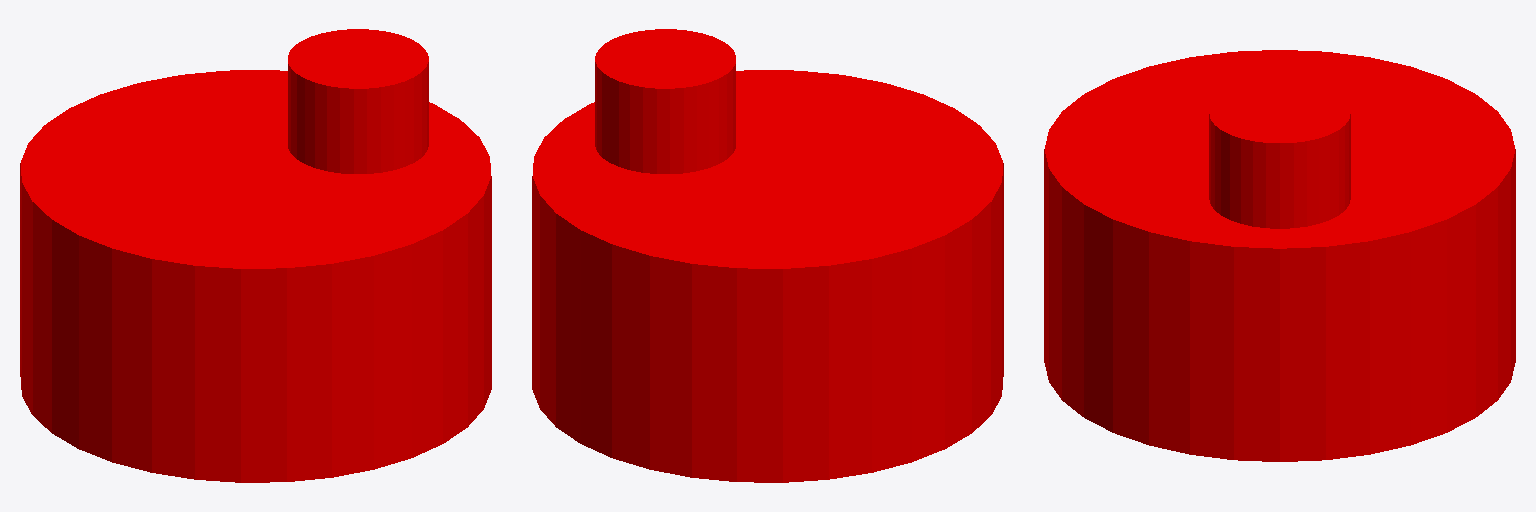
URDF robot description (my_robo):
<?xml version="1.0"?>
<robot name="my_robo" xmlns:xacro="http://ros.org/wiki/xacro">
  <material name="red">
    <color rgba="1.0 0 0 2.5"/>
  </material>

  <link name="base_link"/>

  <joint name="body_joint" type="fixed">
    <parent link="base_link"/>
    <child  link="body_link"/>
    <origin xyz="0 0 0.05" rpy="0 0 0"/>
  </joint>
  <link name="body_link">
   <inertial>
     <origin xyz="0 0 0.5" rpy="0 0 0"/>
     <mass value="1"/>
     <inertia ixx="0.1"  ixy="0"  ixz="0" iyy="0.1" iyz="0" izz="0.1" />
   </inertial>
   <visual>
     <origin xyz="0 0 0" rpy="0 0 0" />
     <geometry>
       <cylinder radius="0.1" length="0.1"/>
     </geometry>
     <material name="red" />
   </visual>
   <collision>
     <origin xyz="0 0 0" rpy="0 0 0"/>
     <geometry>
       <cylinder radius="0.1" length="0.1"/>
     </geometry>
   </collision>
  </link>
  <gazebo reference="body_link">
    <material>Gazebo/Red</material>
    <mu1 value="0.1" />
    <mu2 value="0.1" />
  </gazebo>

  <joint name="head_joint" type="fixed">
    <parent link="base_link"/>
    <child  link="head_link"/>
    <origin xyz="0.05 0 0.12" rpy="0 0 0"/>
  </joint>
  <link name="head_link">
   <visual>
     <origin xyz="0 0 0" rpy="0 0 0" />
     <geometry>
       <cylinder radius="0.03" length="0.04"/>
     </geometry>
     <material name="red" />
   </visual>
  </link>
  <gazebo reference="head_link">
    <material>Gazebo/Red</material>
  </gazebo>

  <gazebo>
    <plugin name="object_controller" filename="libgazebo_ros_planar_move.so">
      <commandTopic>cmd_vel</commandTopic>
      <odometryTopic>odom</odometryTopic>
      <odometryFrame>odom</odometryFrame>
      <odometryRate>20.0</odometryRate>
      <robotBaseFrame>base_link</robotBaseFrame>
    </plugin>
  </gazebo>

</robot>

--- Facts derived from the render (not from the file) ---
Views: 3 orthographic renders of the robot side by side, from view 1: azimuth 30°, elevation 25°; view 2: azimuth 150°, elevation 25°; view 3: azimuth 270°, elevation 25°.
Robot: my_robo — 3 links, 2 joints (2 fixed); root link base_link; default pose: all joints at 0.
Links seen in each view (by area): view 1: body_link, head_link; view 2: body_link, head_link; view 3: body_link, head_link.
Boxes of the visible links, x1=… form: body_link: x1=20, y1=70, x2=491, y2=482; head_link: x1=288, y1=29, x2=428, y2=173; body_link: x1=532, y1=70, x2=1003, y2=482; head_link: x1=595, y1=29, x2=735, y2=173; body_link: x1=1044, y1=50, x2=1515, y2=461; head_link: x1=1209, y1=84, x2=1350, y2=228.
Bounding box of the posed robot: 0.2 × 0.2 × 0.14 m (x, y, z).
Geometry: primitives only (box / cylinder / sphere), no mesh files.